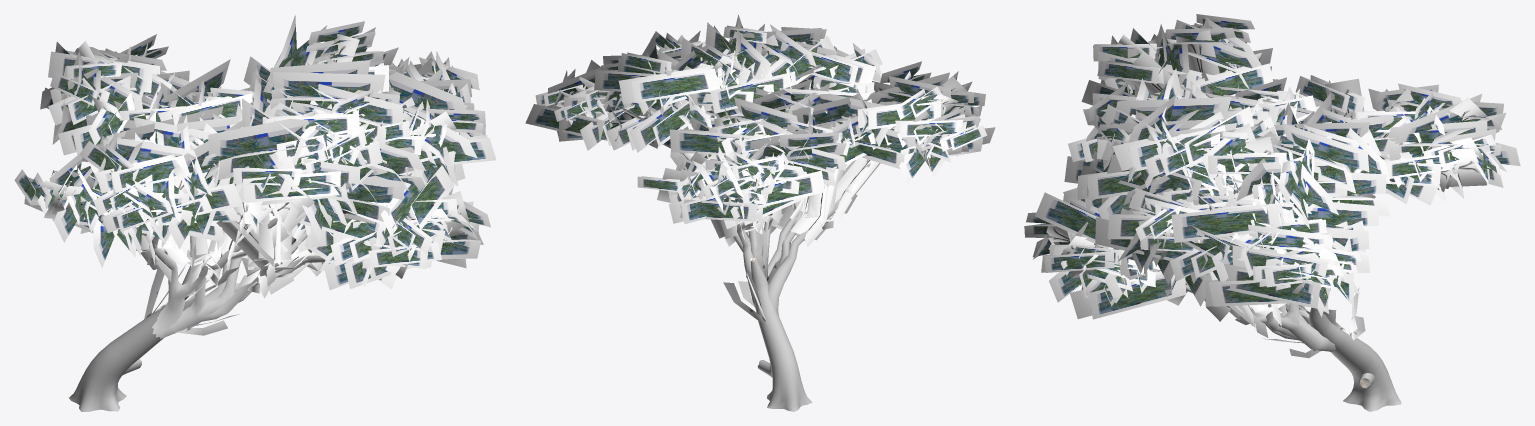
The model's file is Type_1_2.fbx.
3 views of the same model, side by side, from view 1: azimuth 30°, elevation 25°; view 2: azimuth 150°, elevation 25°; view 3: azimuth 270°, elevation 25° (orthographic). The views are drawn at different scales.
Parts seen in each view (by area): view 1: Type_1_2; view 2: Type_1_2; view 3: Type_1_2.
Boxes of the visible parts, x1,y1,x2,y2 form: Type_1_2: (14, 15, 496, 411); Type_1_2: (525, 14, 995, 411); Type_1_2: (1024, 14, 1520, 411).
Size of the model in its own units: 21.18 by 18.46 by 14.33.
